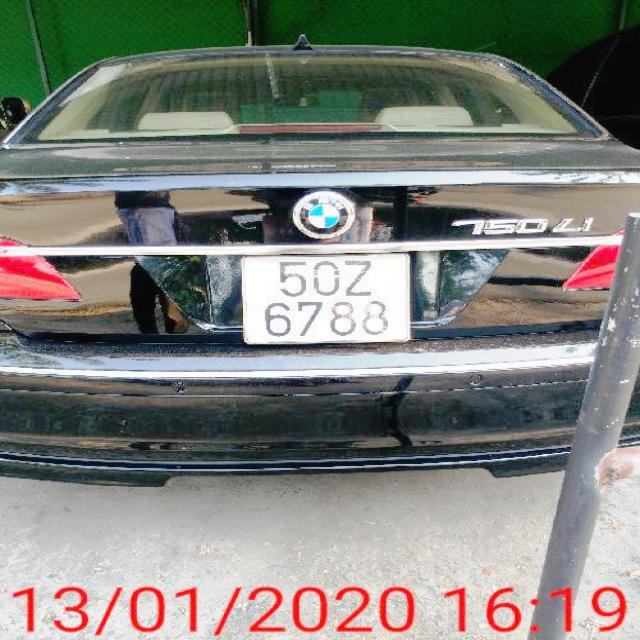license_plate: (236, 256, 413, 348)
